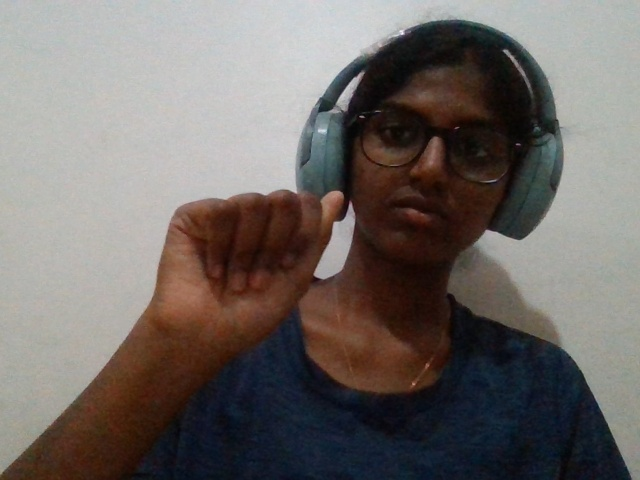A: (104, 156, 352, 413)
